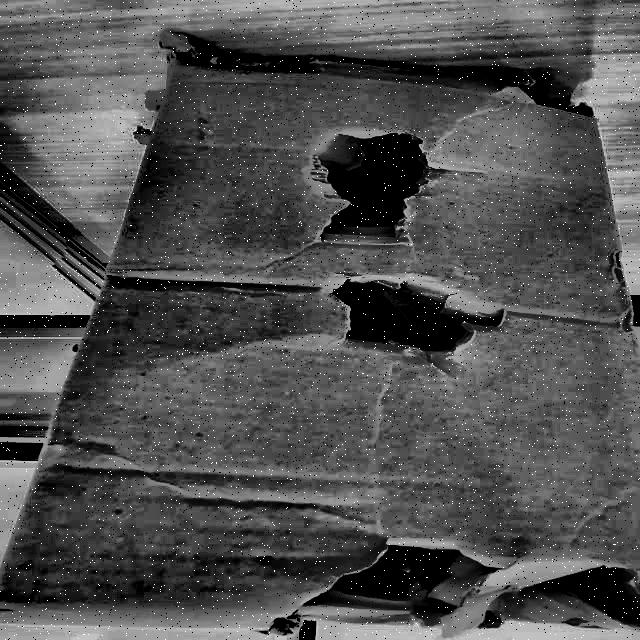box: (0, 35, 639, 634)
hole: (275, 542, 640, 627), (297, 126, 439, 248), (312, 280, 516, 358), (168, 49, 328, 80), (513, 79, 588, 119)
